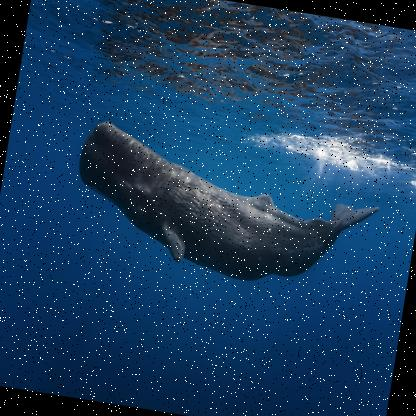sperm_whale: (46, 105, 394, 358)
